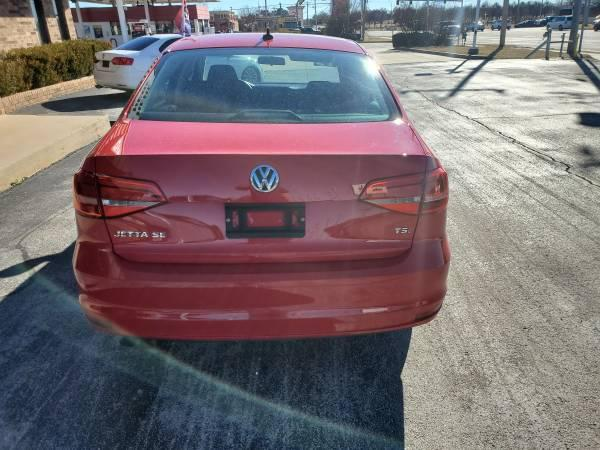Left_Taillight: (66, 166, 165, 218)
Rear_Bumper: (70, 208, 451, 340)
Rear_Windshield: (123, 48, 405, 126)
Right_Taillight: (360, 164, 450, 214)
Roof: (165, 33, 365, 54)
Tailgate: (80, 116, 435, 264)
